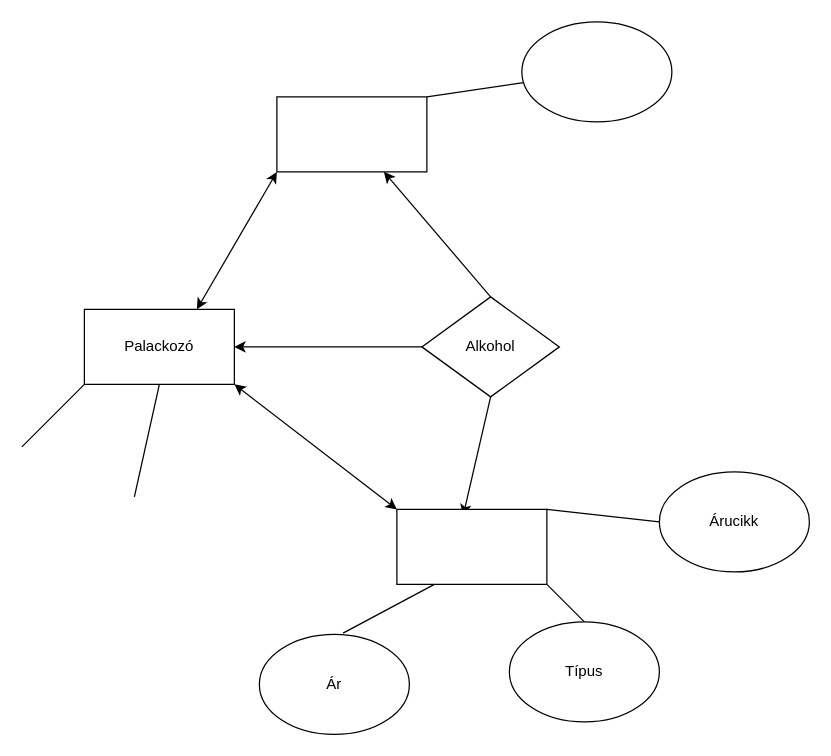
Image size: 831x756. Some labels were removed from this diagram. The centre of each missing label's shape, as x and y in pixels:
Forgalmazó: (x=471, y=546)
Gyártó: (x=351, y=134)
